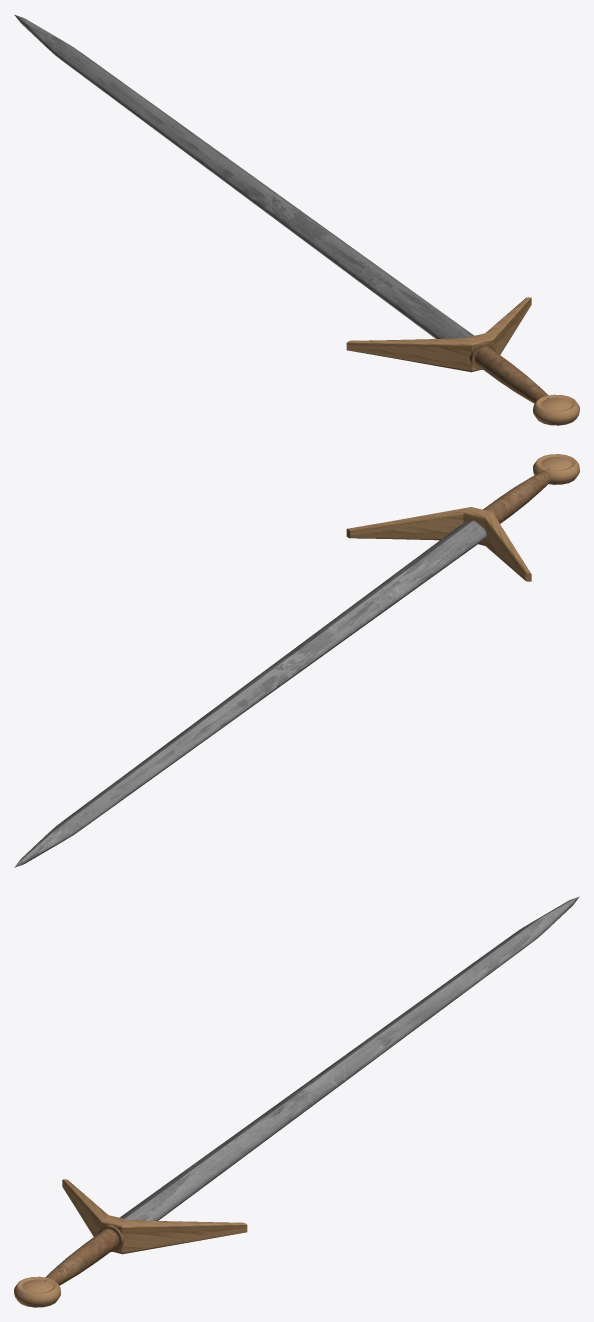
The model's file is Longsword_2.fbx.
3 views of the same model, one above another, from view 1: azimuth 30°, elevation 25°; view 2: azimuth 150°, elevation 25°; view 3: azimuth 330°, elevation 25° (orthographic).
Parts seen in each view (by area): view 1: Gladius.006; view 2: Gladius.006; view 3: Gladius.006.
Part boxes in pixels (x1,y1,x2,y2): Gladius.006: [14, 14, 579, 425]; Gladius.006: [14, 454, 579, 867]; Gladius.006: [14, 896, 579, 1307].
Bounding box in the file's own units: 25.59 × 3.79 × 133.
